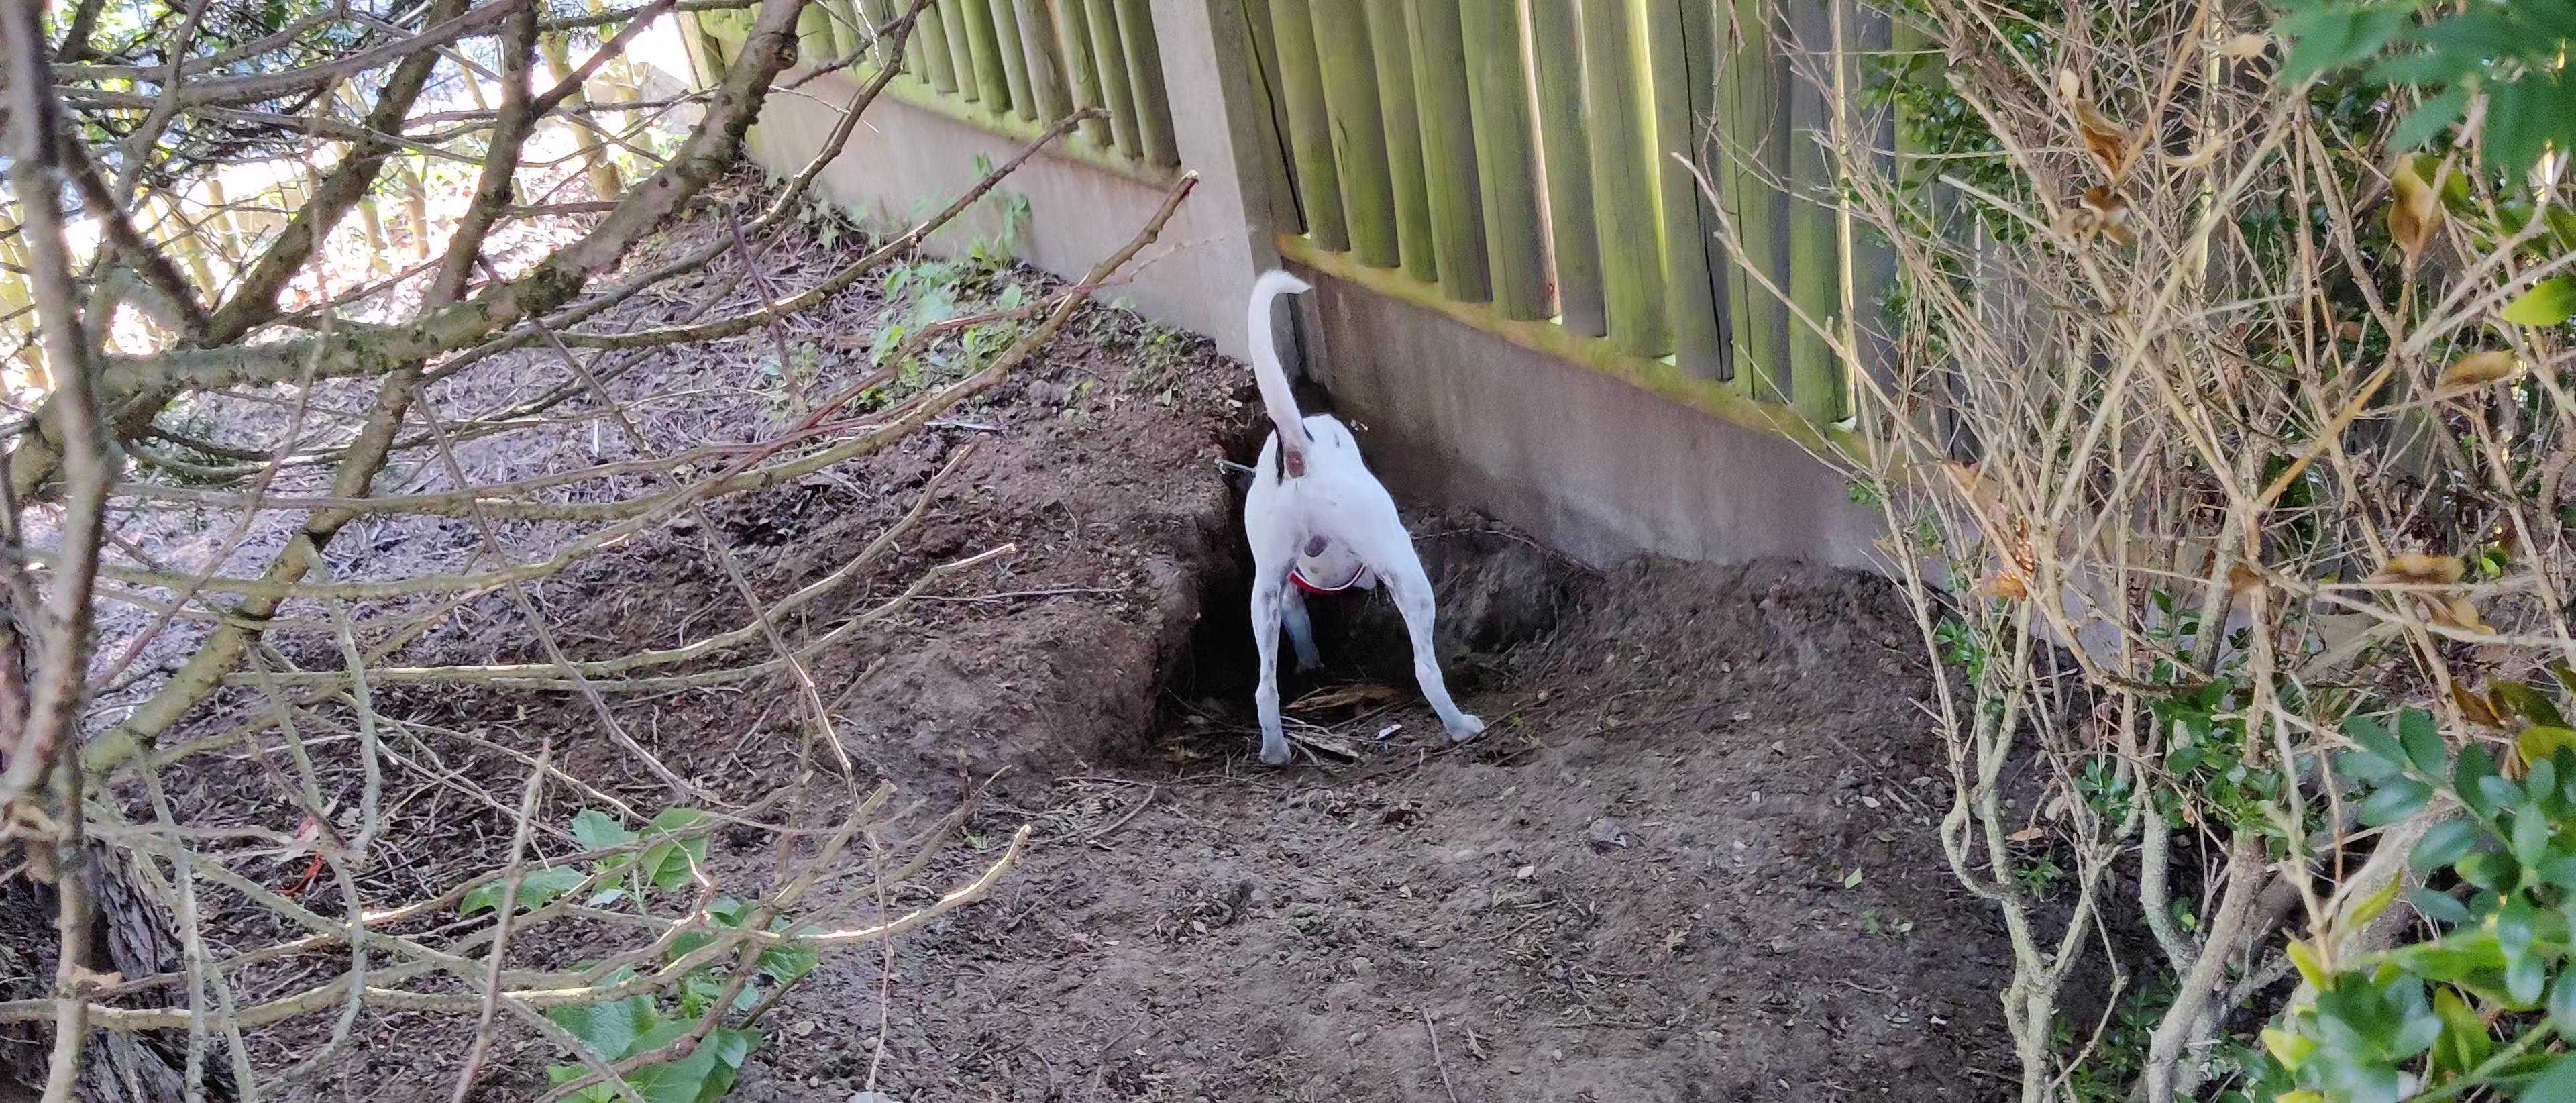Dog: (1212, 248, 1498, 789)
